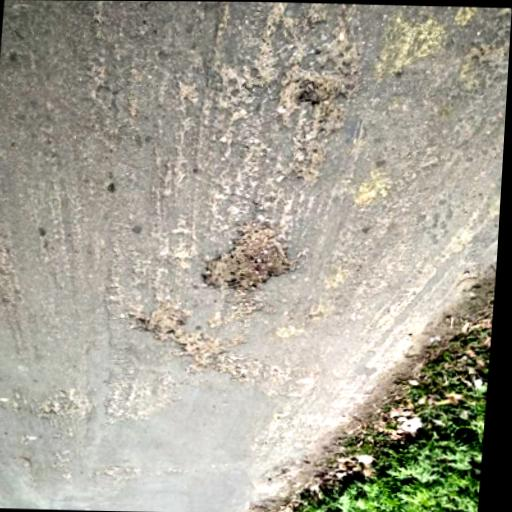pothole: (197, 224, 297, 300), (135, 308, 226, 370), (296, 75, 341, 106)
